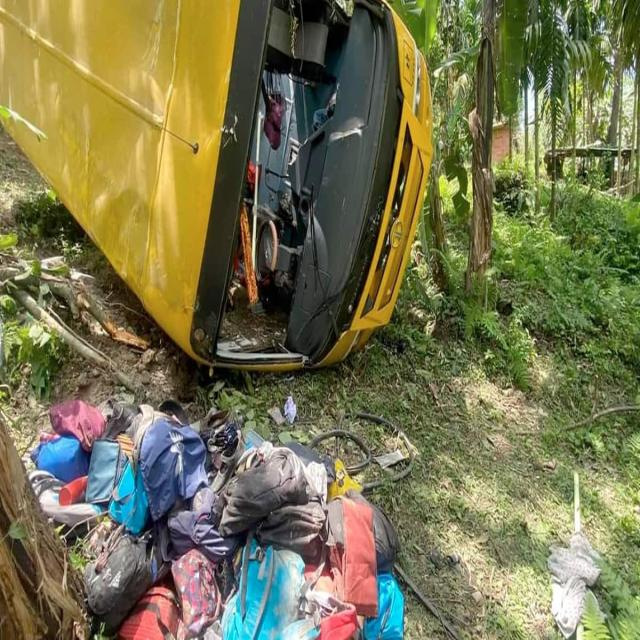accident: (0, 0, 432, 371)
